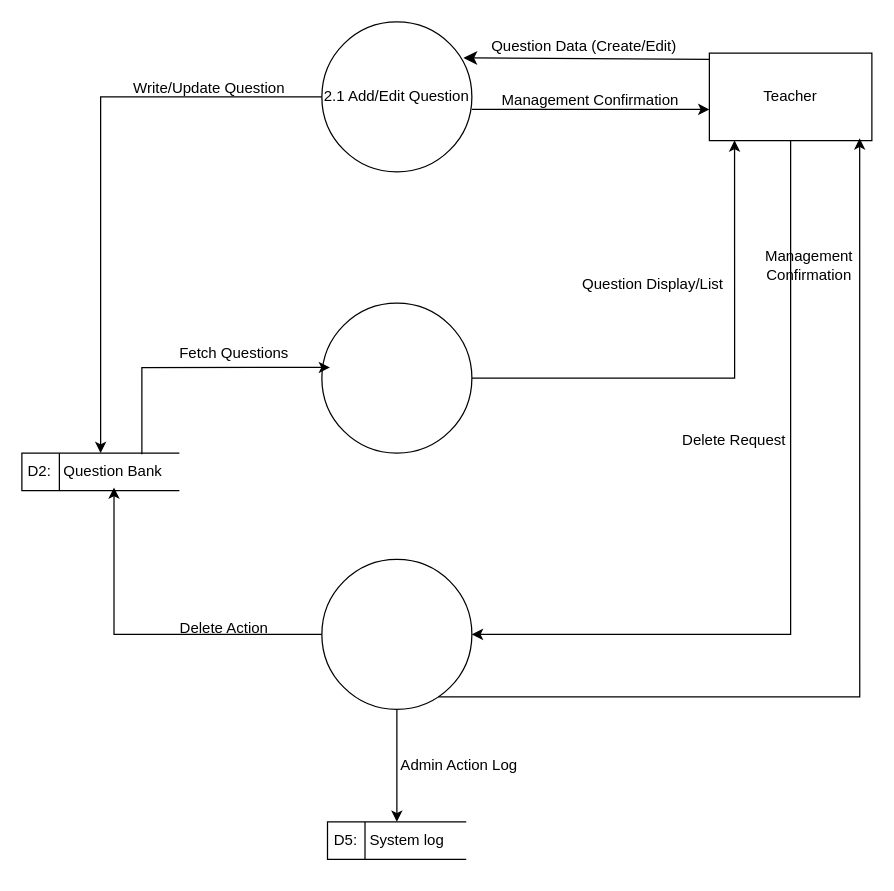
Image size: 894x891. Some labels were removed from this diagram. The box of each missing label's shape, as (x1, y1, x2, y2) in pixels:
2.2 Categorize & View: (321, 302, 472, 453)
2.3 Delete Question: (321, 558, 472, 709)
